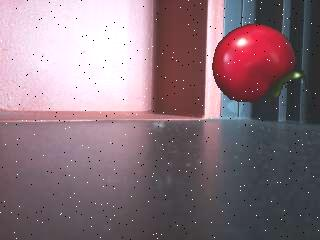Tomato: (211, 22, 305, 105)
